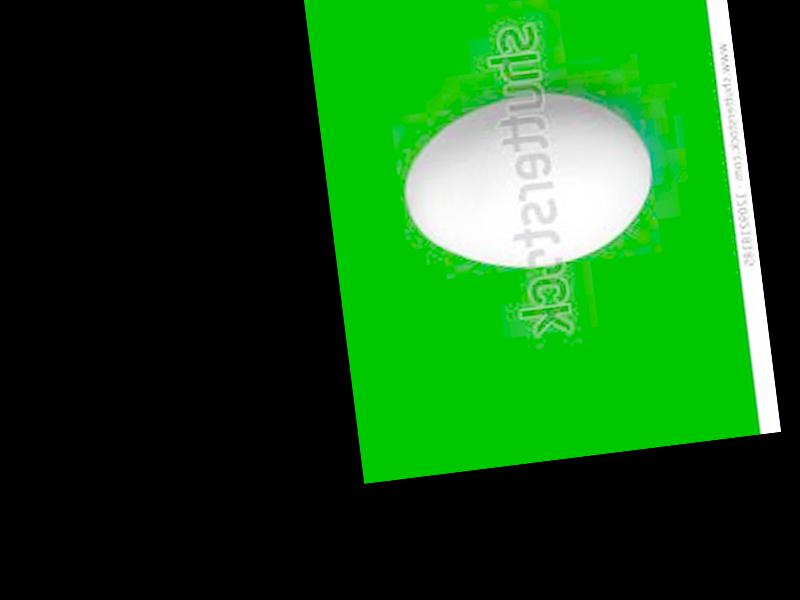Eggs: (395, 80, 659, 280)
